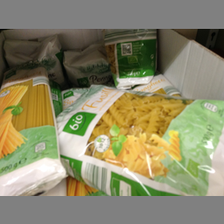pasta: (56, 83, 224, 195), (2, 62, 61, 195), (102, 29, 161, 89)
